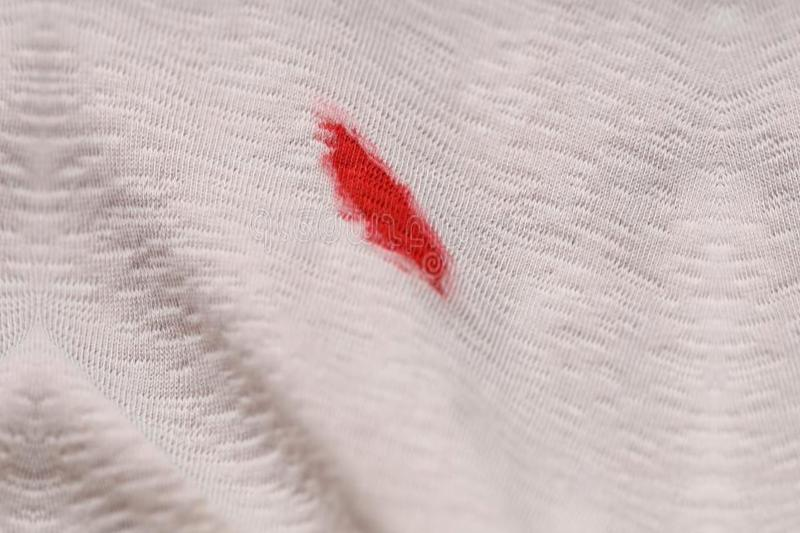stain: (309, 97, 465, 308)
